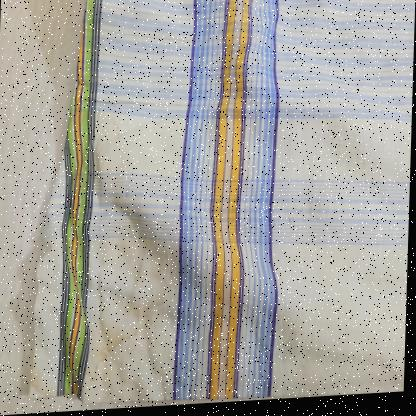spot: (104, 287, 122, 353), (107, 110, 126, 167), (152, 250, 170, 310), (117, 307, 133, 347), (128, 308, 145, 339), (89, 341, 111, 364), (143, 305, 154, 328), (41, 383, 54, 398), (86, 362, 100, 374), (31, 380, 42, 393), (111, 243, 122, 254), (88, 373, 99, 382), (80, 165, 91, 173), (8, 81, 16, 88)
